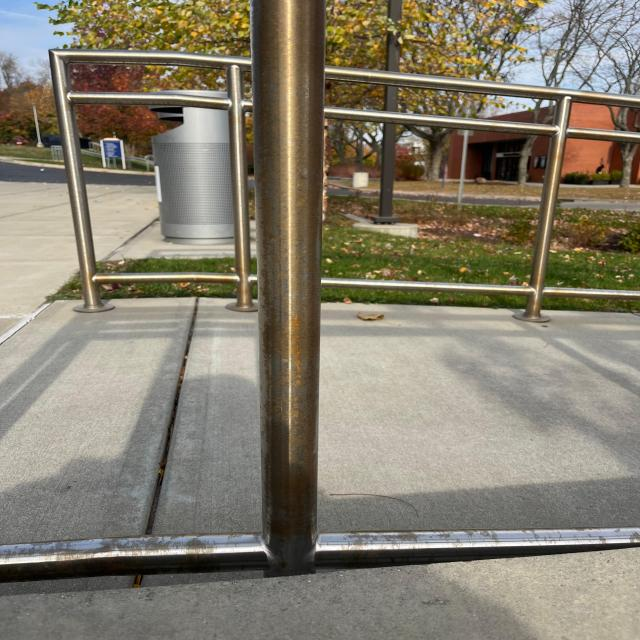Uniform Corrosion: (1, 1, 640, 580)
